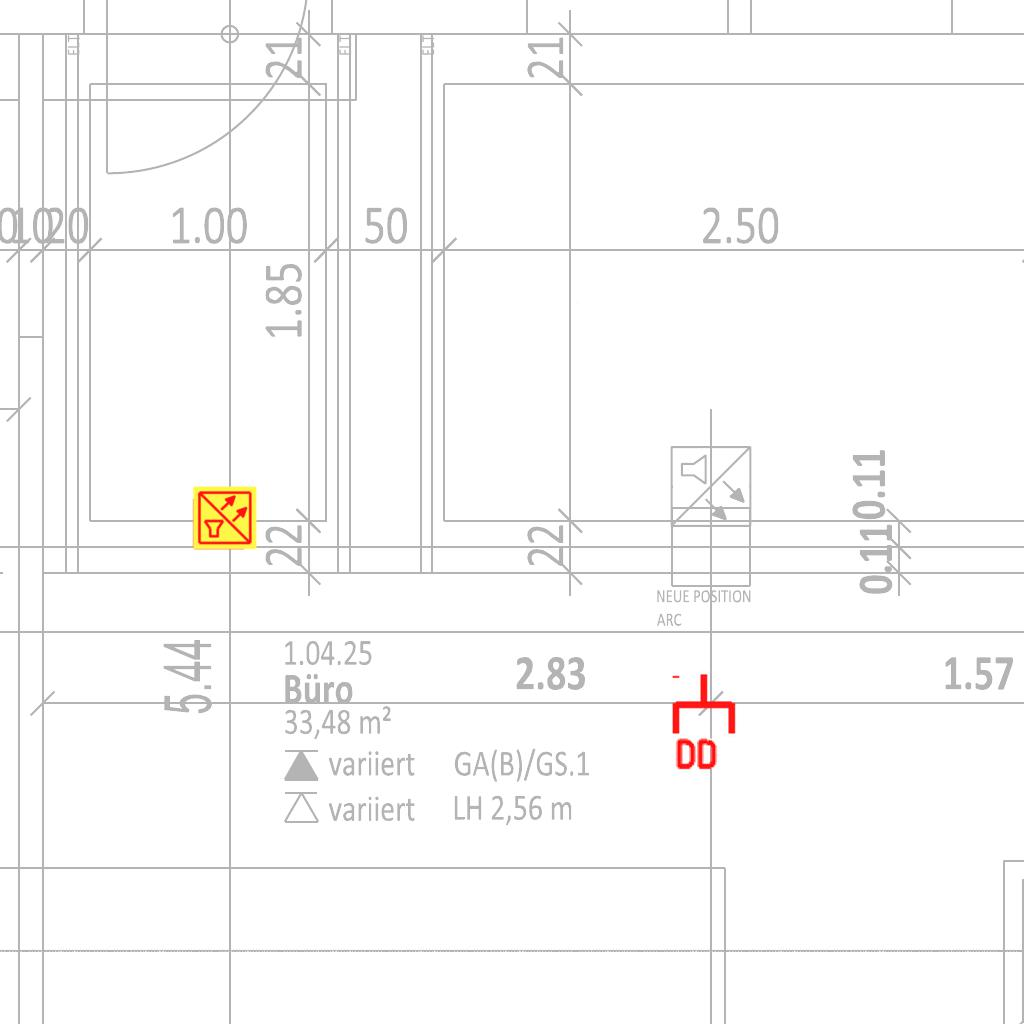Datenanschluss_zweifach: (671, 671, 740, 774)
OKW_Multisensormelder_(Kombination_optischer_Rauch-Kahlenmonoxid_Waerme-Melder): (192, 485, 258, 551)
